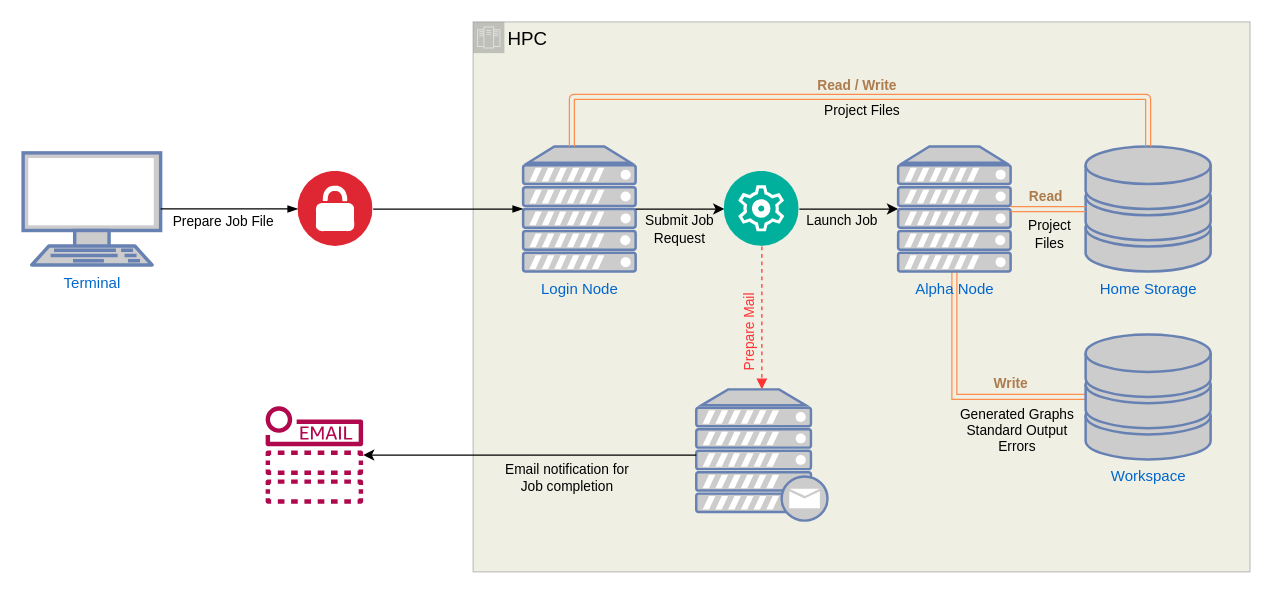
The diagram is 1271 pixels wide and 594 high, and some of its shapes have lost their labels. Here are the shapes that lost their labels. From the top down, the centre of each, then its label:
the point at 335,208: VPN
the point at 761,208: SLURM
the point at 761,454: Mail Server
